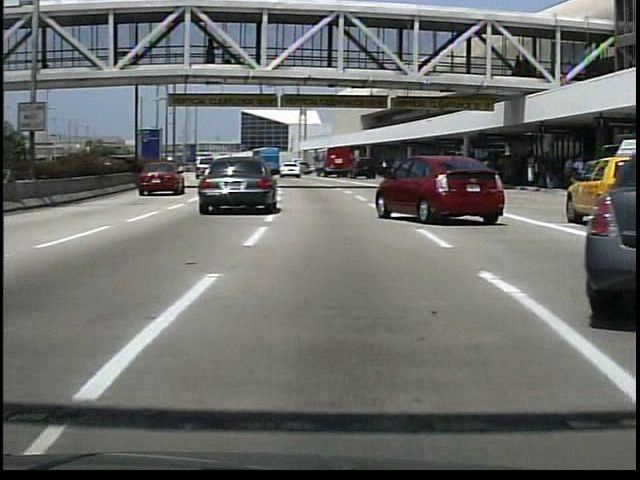person: (206, 38, 221, 65)
